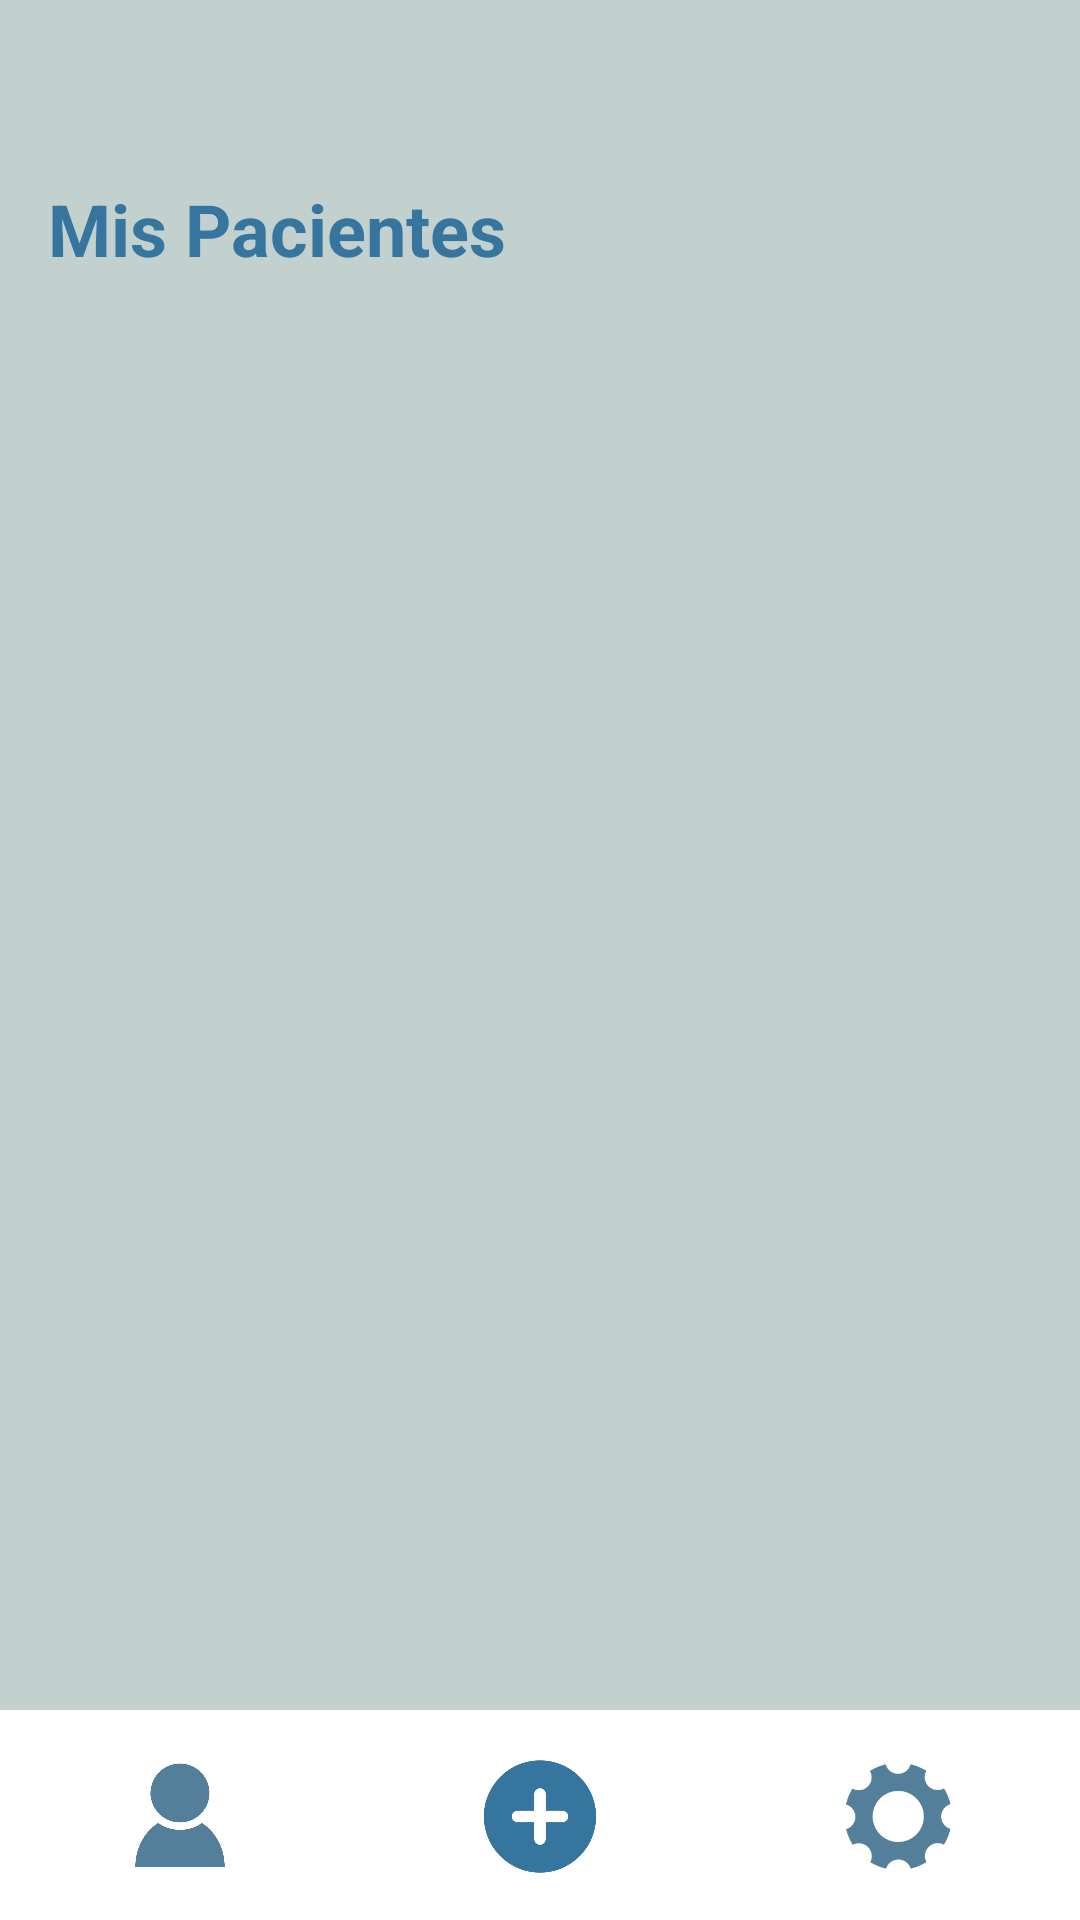

Icon click points for this 1080 x 1920 phone screenshot, format (x=x, y=y):
Configuración: (x=898, y=1816)
iconomas: (x=540, y=1816)
Perfil: (x=180, y=1815)
